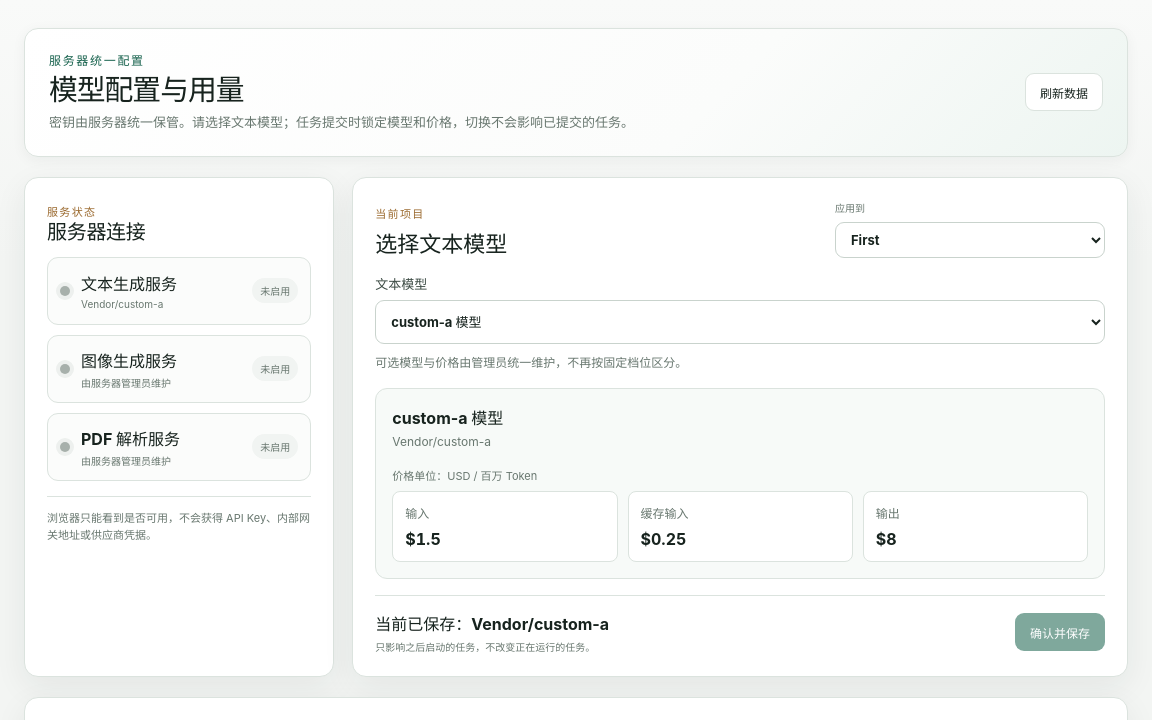
Test: preserves unsaved selection on background refresh but resets it when switching projects
The image size is (1152, 720).
Select "custom-b 模型" in the dropdown labelled "文本模型" at (740, 322), box [375,300,1105,344]
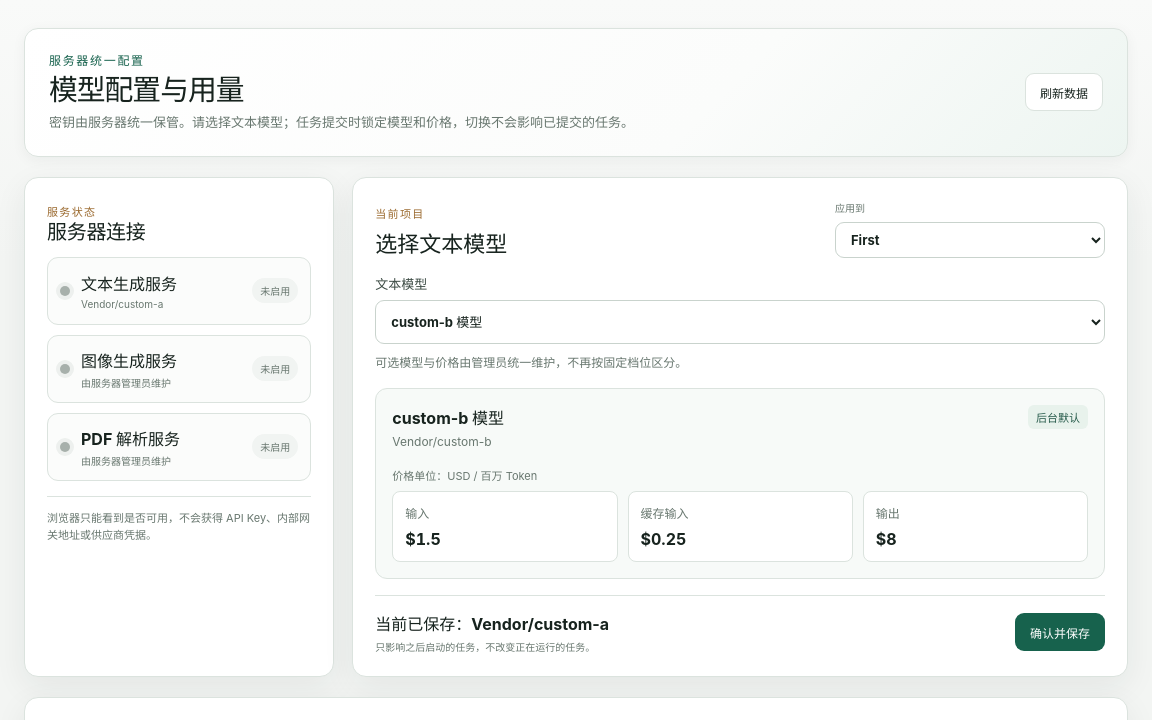
Select "Second" in the dropdown labelled "应用到" at (970, 240), box [835,222,1105,258]
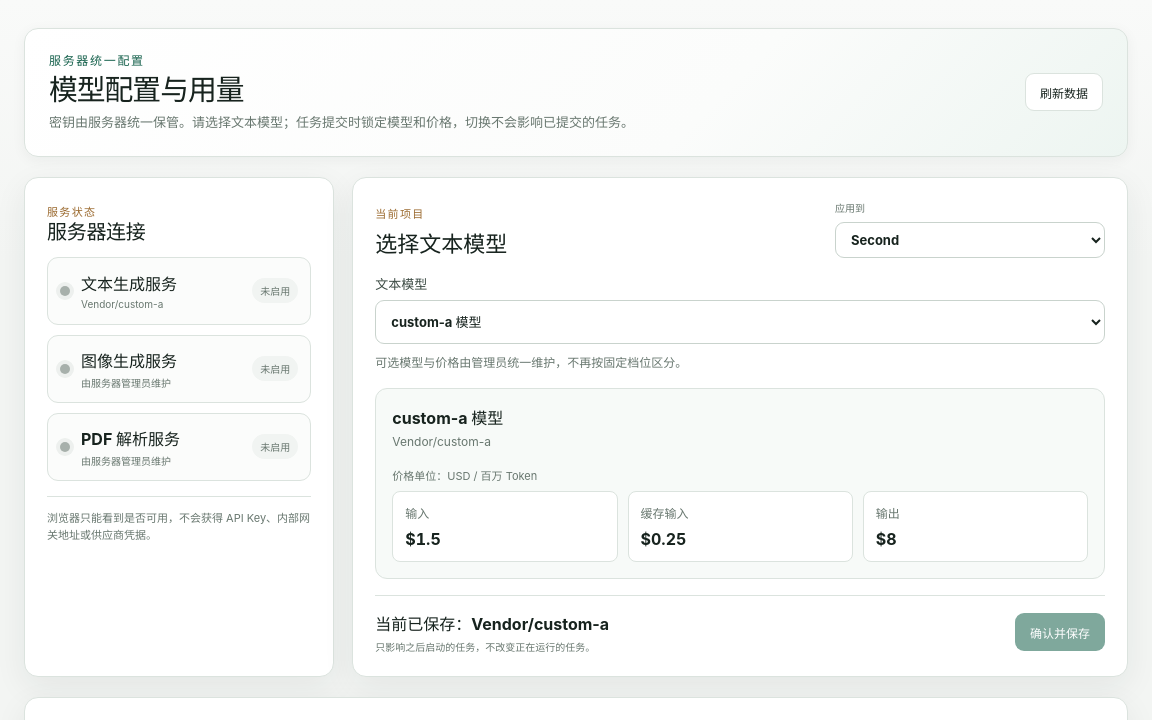
Expected: the button "确认并保存" is disabled, [1015,613,1105,651]
